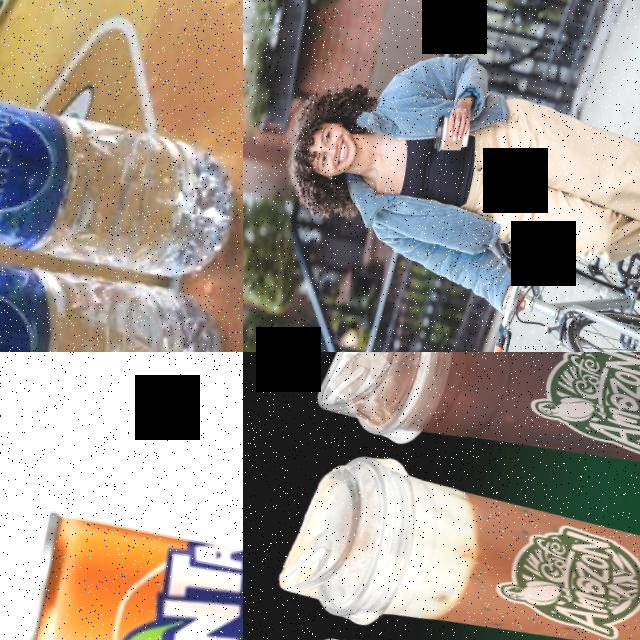bottle: (0, 20, 243, 296), (0, 187, 239, 352)
can: (15, 511, 243, 640)
cup: (274, 440, 640, 640), (312, 352, 640, 528), (431, 112, 474, 156)
